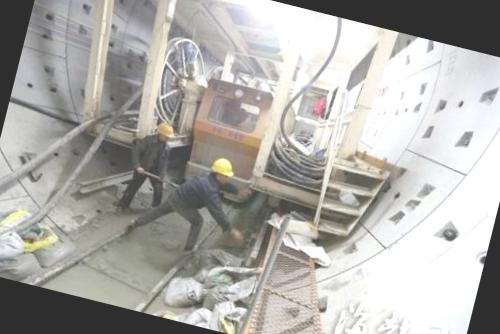person: (132, 140, 258, 264), (116, 112, 182, 216)
